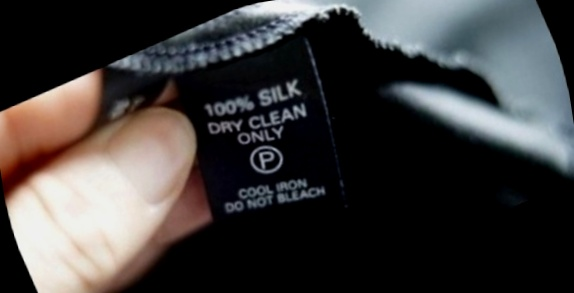dry_clean_any_solvent_except_trichloroethylene: (240, 133, 294, 184)
